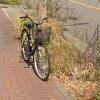bicycles: (18, 14, 52, 81)
